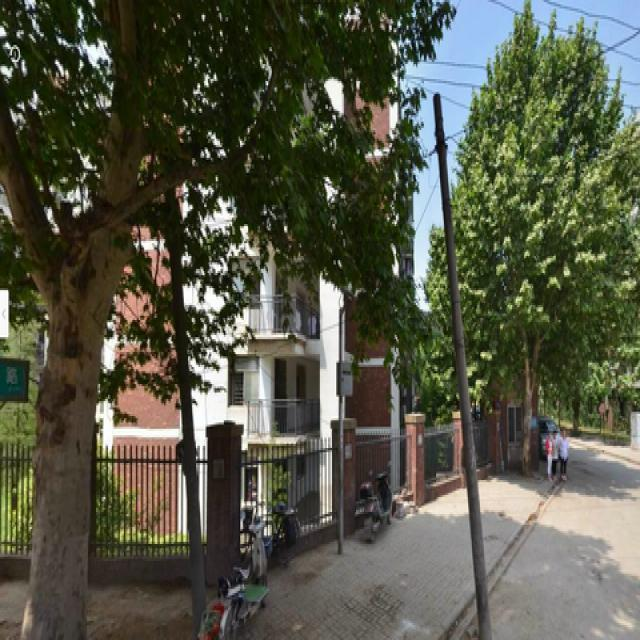meta: (444, 28, 627, 490)
